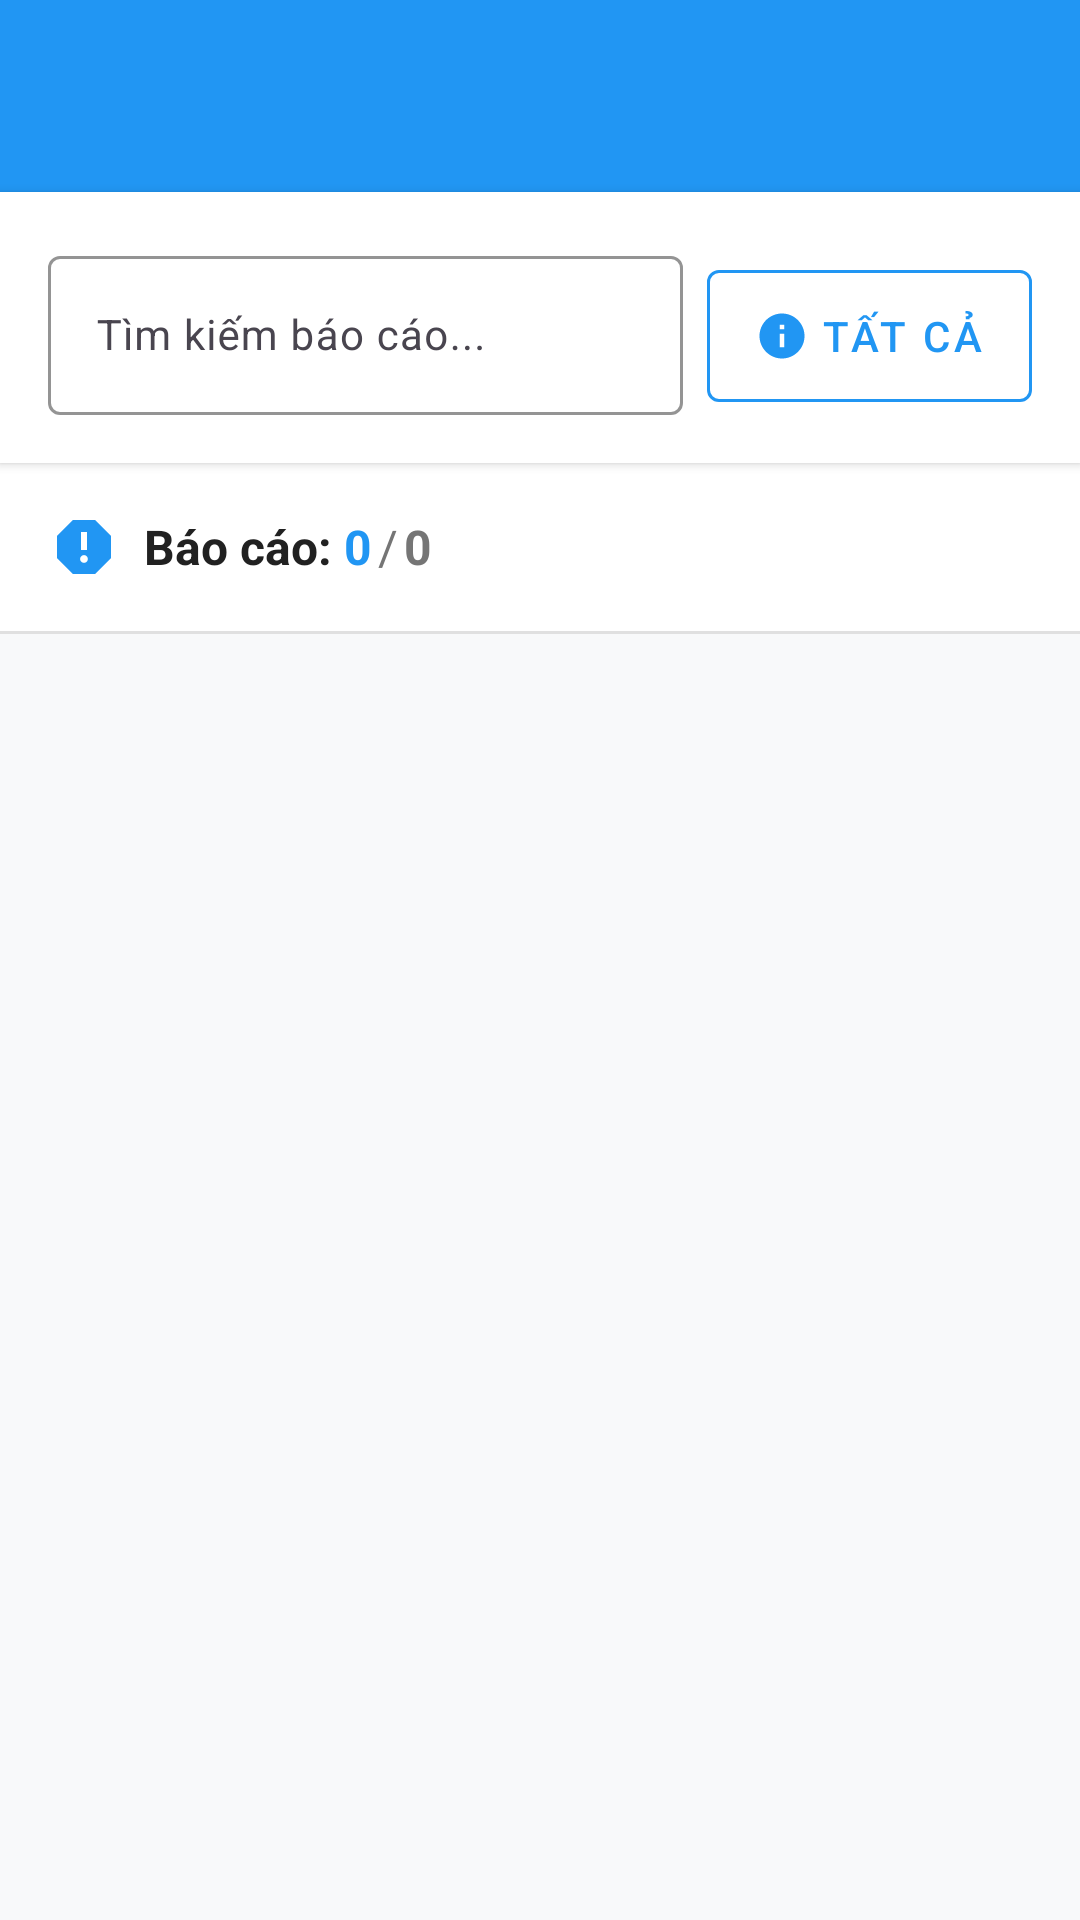

Icon click points for this 1080w x 1920h phone screenshot, format (x,y):
report: (84,547)
